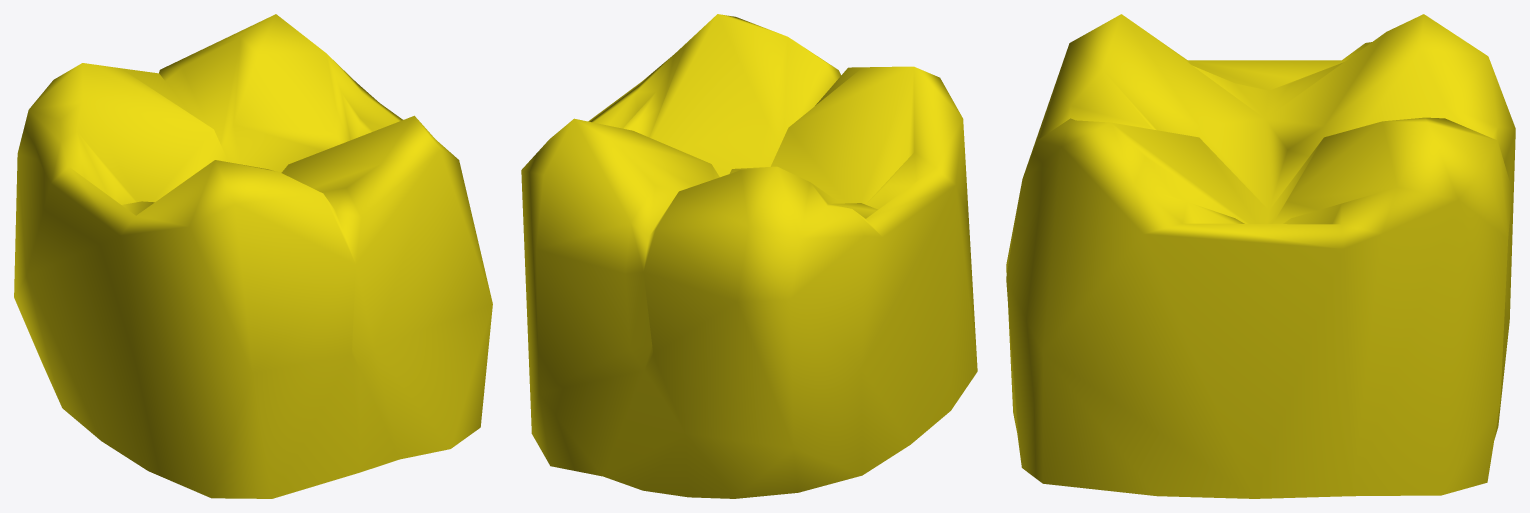
The model's file is D48N_NUC.obj.
The picture shows the model from 3 angles, left to right: view 1: azimuth 30°, elevation 25°; view 2: azimuth 150°, elevation 25°; view 3: azimuth 270°, elevation 25°; orthographic projection. The views are drawn at different scales.
Parts seen in each view (by area): view 1: D48N_NUC; view 2: D48N_NUC; view 3: D48N_NUC.
Boxes of the visible parts, x1,y1,x2,y2 form: D48N_NUC: [14, 14, 492, 498]; D48N_NUC: [521, 14, 977, 498]; D48N_NUC: [1006, 14, 1515, 498].
Size of the model in its own units: 5.62 by 5.15 by 6.58.
